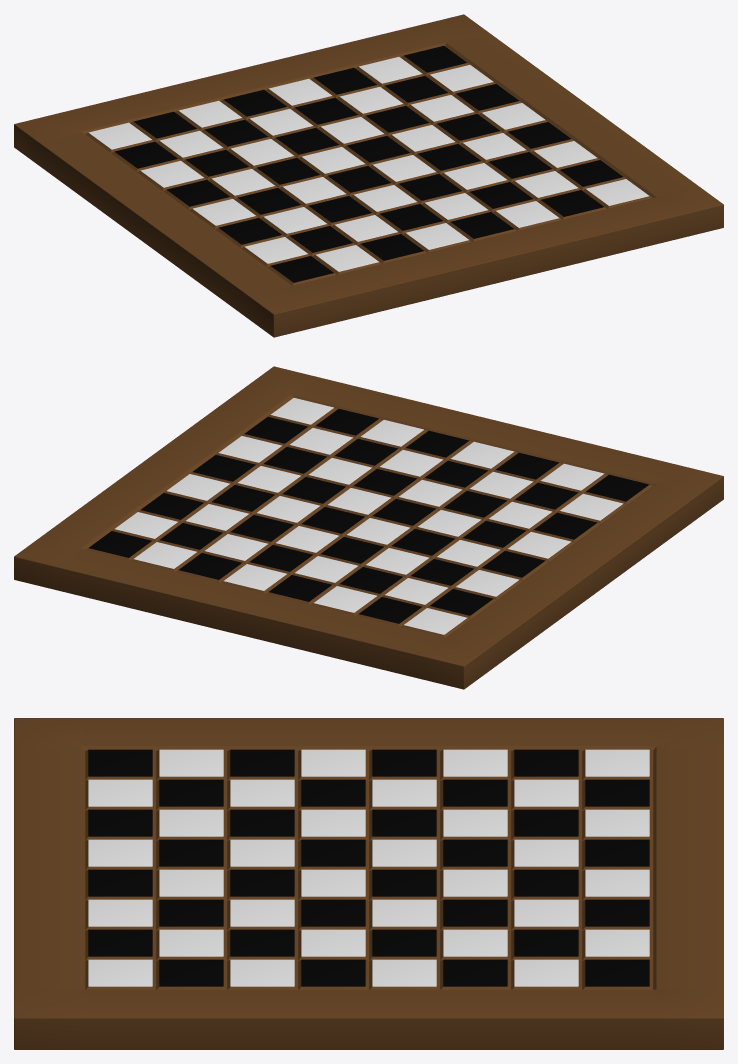
The model's file is Board(High).fbx.
3 renders of one model, top to bottom at view 1: azimuth 30°, elevation 25°; view 2: azimuth 150°, elevation 25°; view 3: azimuth 270°, elevation 25°, orthographic. The views are drawn at different scales.
Visible parts, largest first — view 1: Board(High); view 2: Board(High); view 3: Board(High).
Part boxes in pixels (x1,y1,x2,y2): Board(High): (14,14,723,337); Board(High): (14,366,723,689); Board(High): (14,718,723,1049).
Bounding box in the file's own units: 200 × 10 × 200.
